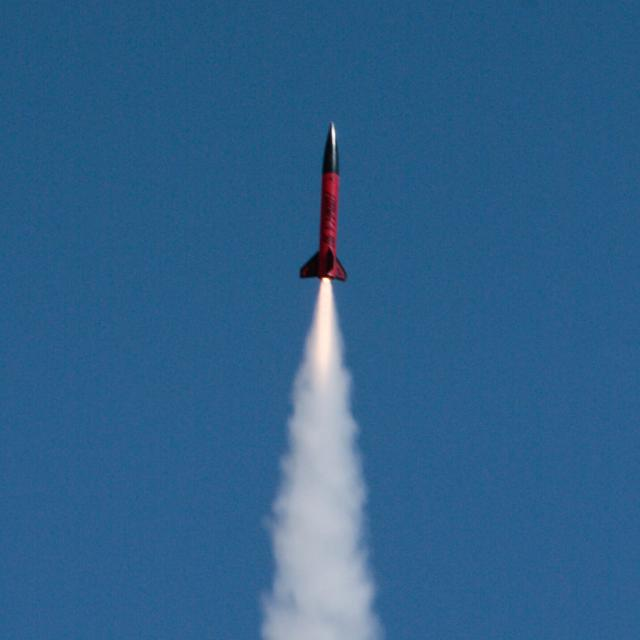Rocket: (297, 120, 350, 284)
